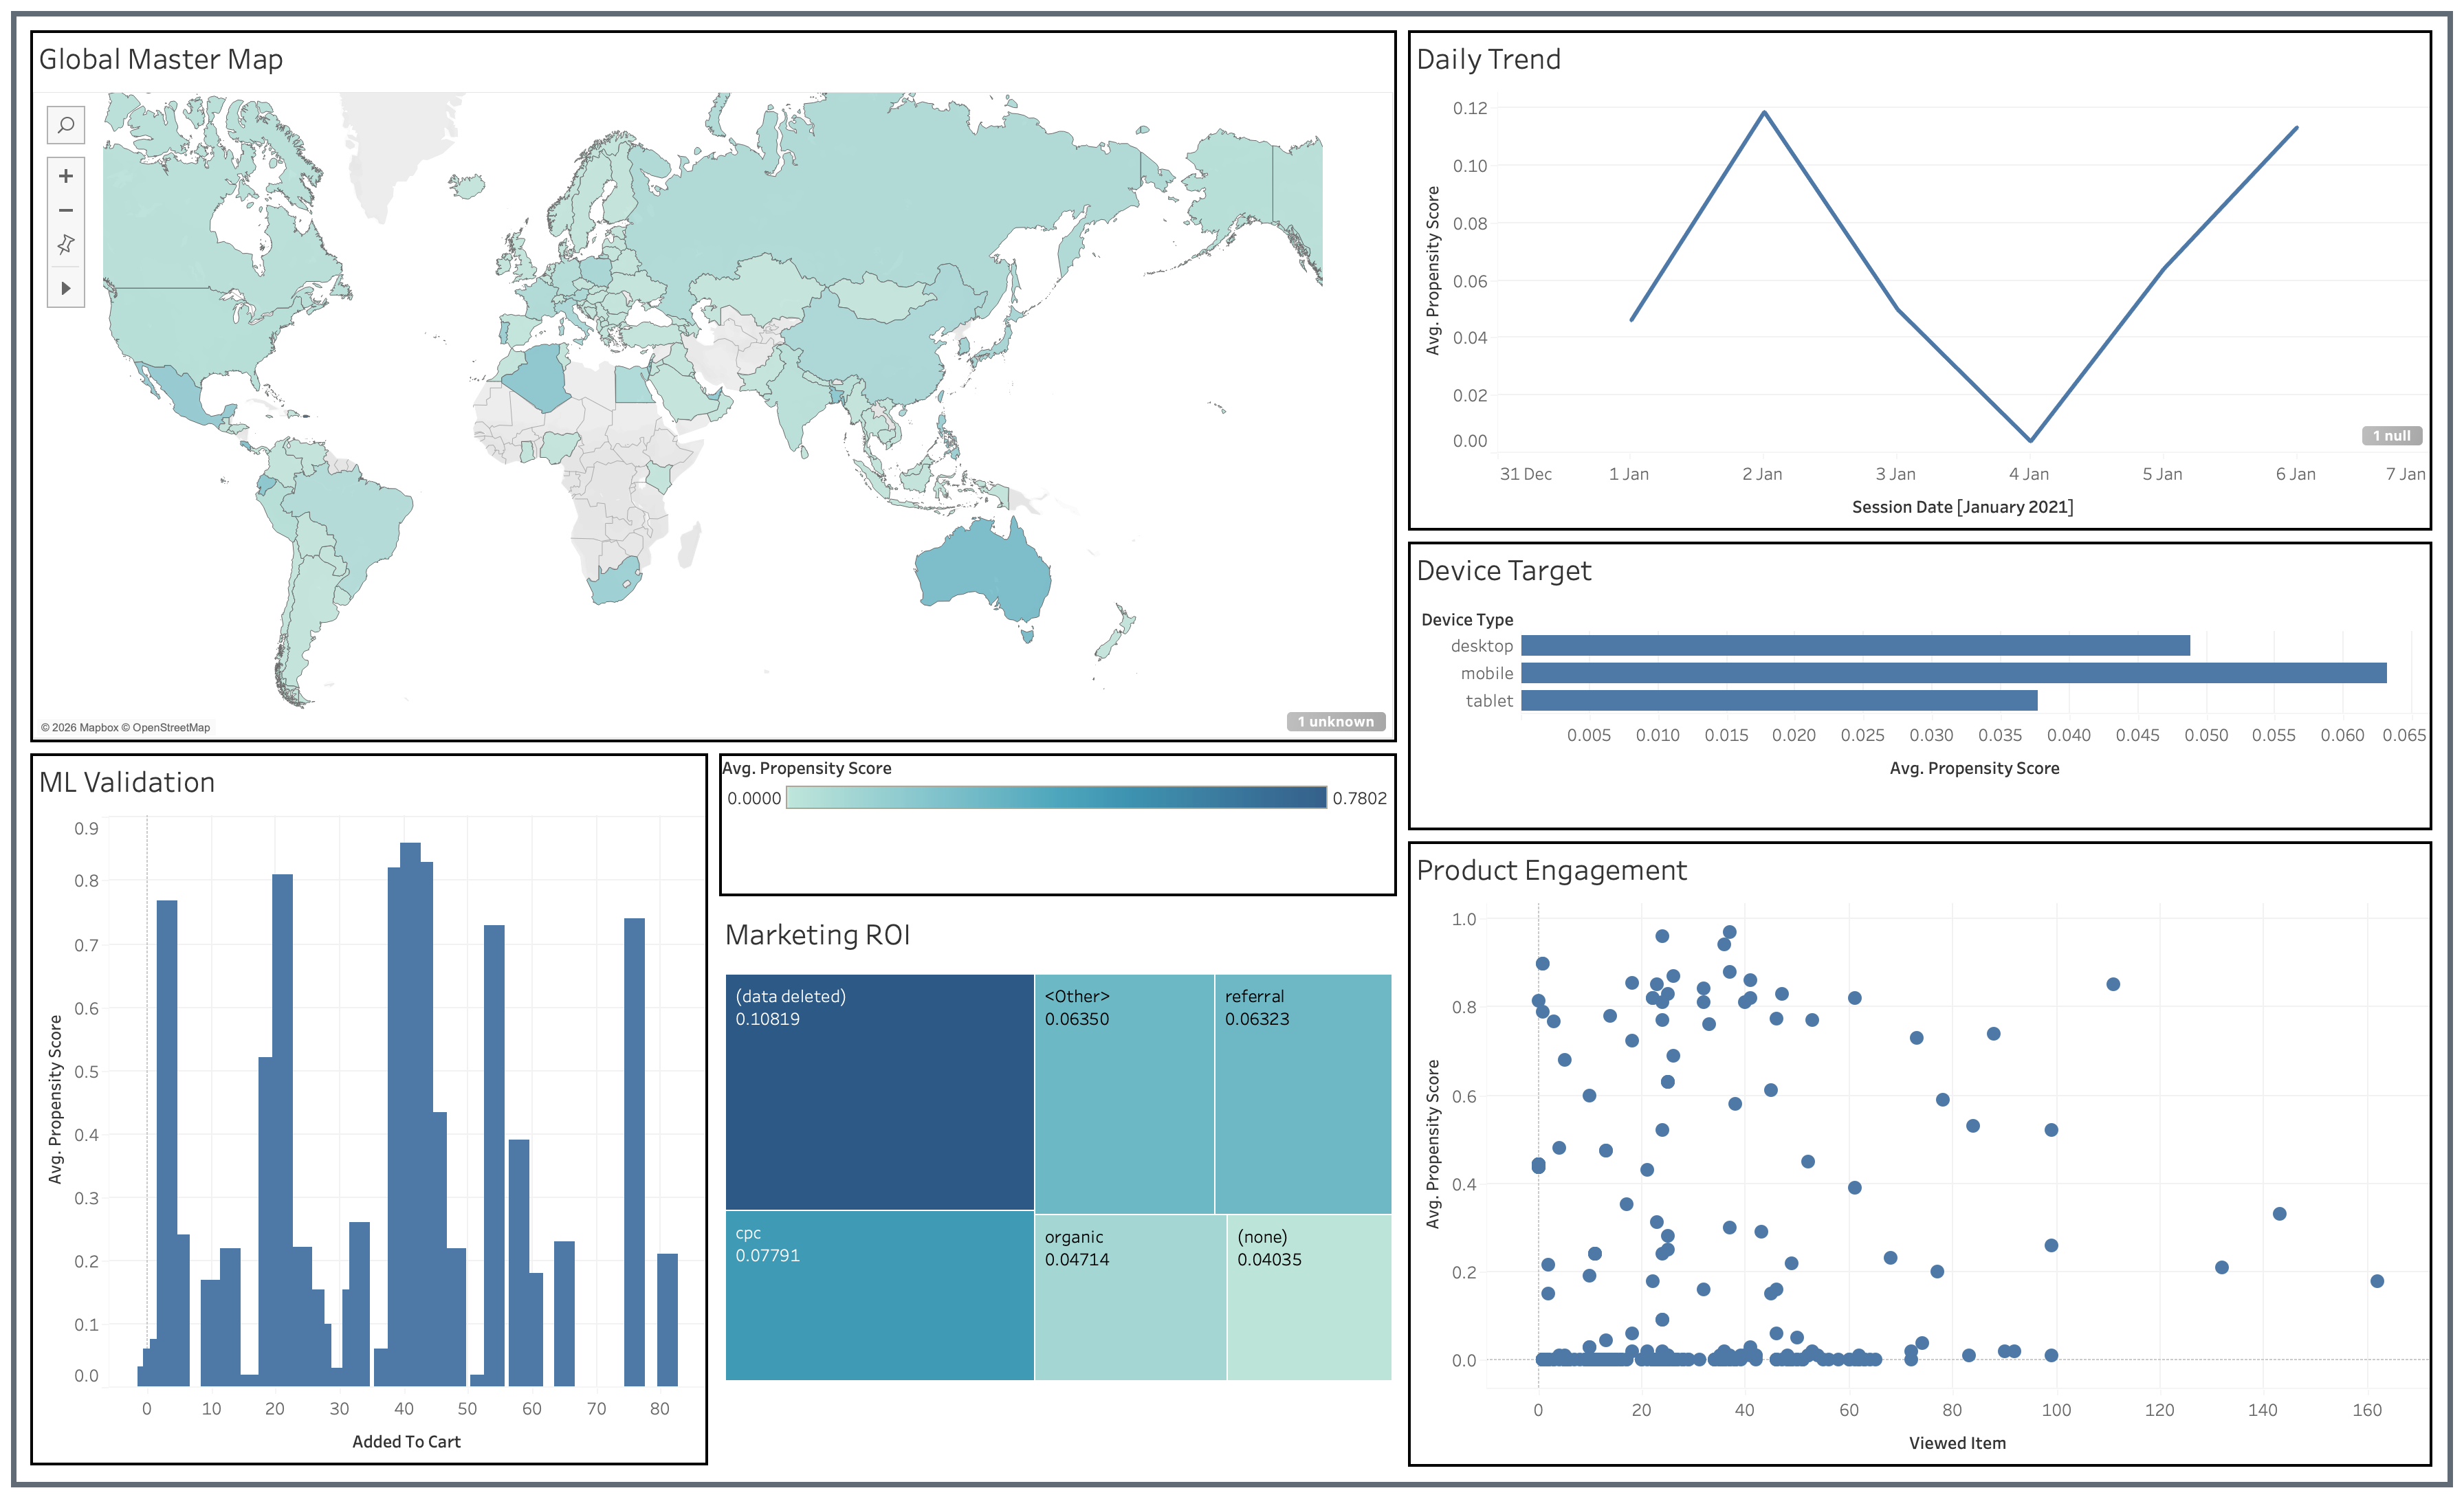

The dashboard page shown, as its layout file describes it:
{"tool":"tableau","page":{"name":"Dashboard 1","canvas":[1000,1000],"units":"permille","ordinal":0},"visuals":[{"type":"worksheet","title":"Global Master Map","mark":"Automatic","box":[10,16.5,506.9,483]},{"type":"worksheet","title":"Daily Trend","mark":"Automatic","rows":["Propensity_Score"],"cols":["session_date"],"box":[516.9,16.5,472.4,361.9]},{"type":"worksheet","title":"Device Target","mark":"Automatic","rows":["device_type"],"cols":["Propensity_Score"],"box":[516.9,378.4,472.4,212.1]},{"type":"worksheet","title":"ML Validation","mark":"Bar","rows":["Propensity_Score"],"cols":["added_to_cart"],"box":[10,499.5,253.5,483]},{"type":"legend","title":"Global Master Map","param":"[federated.0bpx3mg19njo7010nw1q70mgsr7h].[avg:Propensity_Score:qk]","box":[263.5,499.5,253.4,103.1]},{"type":"worksheet","title":"Product Engagement","mark":"Circle","rows":["Propensity_Score"],"cols":["viewed_item"],"box":[516.9,590.5,472.4,392]},{"type":"worksheet","title":"Marketing ROI","mark":"Automatic","box":[263.5,602.6,253.4,379.9]}]}

Visuals, with their boxes on the dashboard's canvas, which has no fixed pixel size, in thousandths of its width and height (x1, y1, x2, y2). These are canvas units, not pixel positions in the 2464x1497 screenshot, which may show the page scaled, cropped or inside an application window:
"Global Master Map" worksheet: bbox=(10, 16, 517, 500)
"Daily Trend" worksheet: bbox=(517, 16, 989, 378)
"Device Target" worksheet: bbox=(517, 378, 989, 590)
"ML Validation" worksheet (Bar marks): bbox=(10, 500, 264, 982)
"Global Master Map" legend: bbox=(264, 500, 517, 603)
"Product Engagement" worksheet (Circle marks): bbox=(517, 590, 989, 982)
"Marketing ROI" worksheet: bbox=(264, 603, 517, 982)
